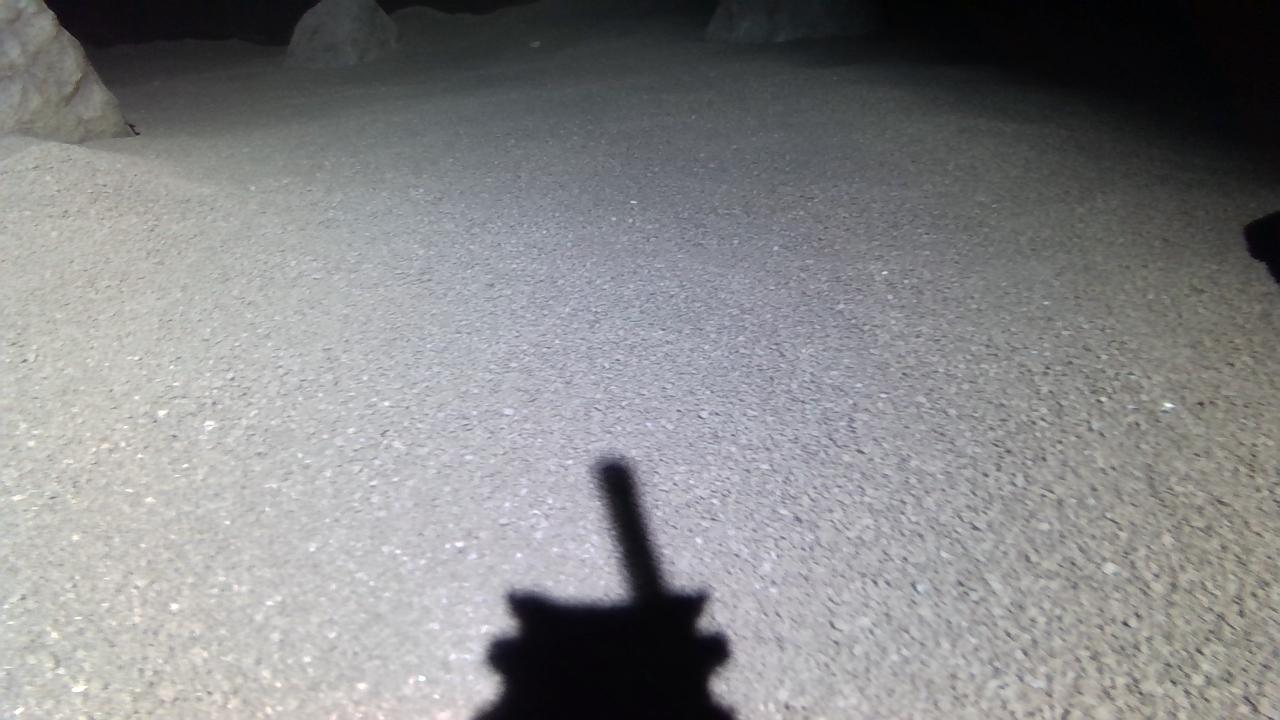rock: (0, 0, 127, 140), (285, 0, 396, 66), (706, 0, 879, 42)
